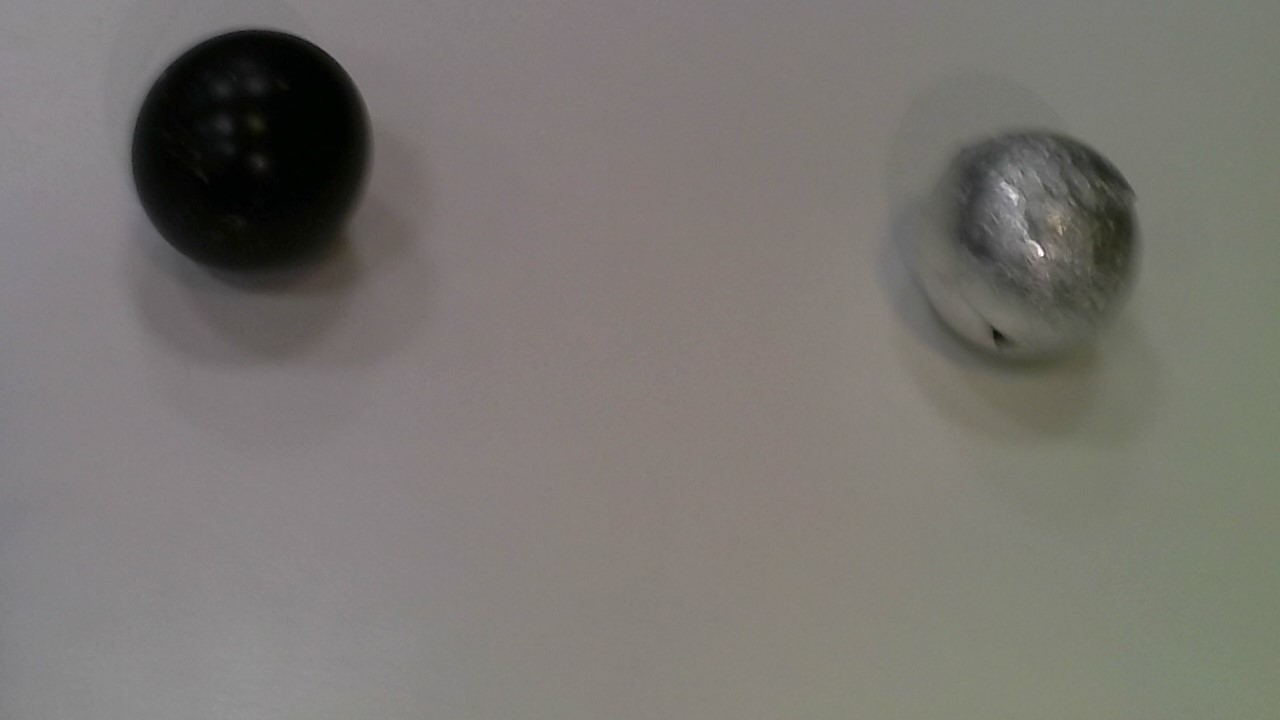black_ball: (120, 17, 389, 276)
silver_ball: (906, 129, 1150, 374)
